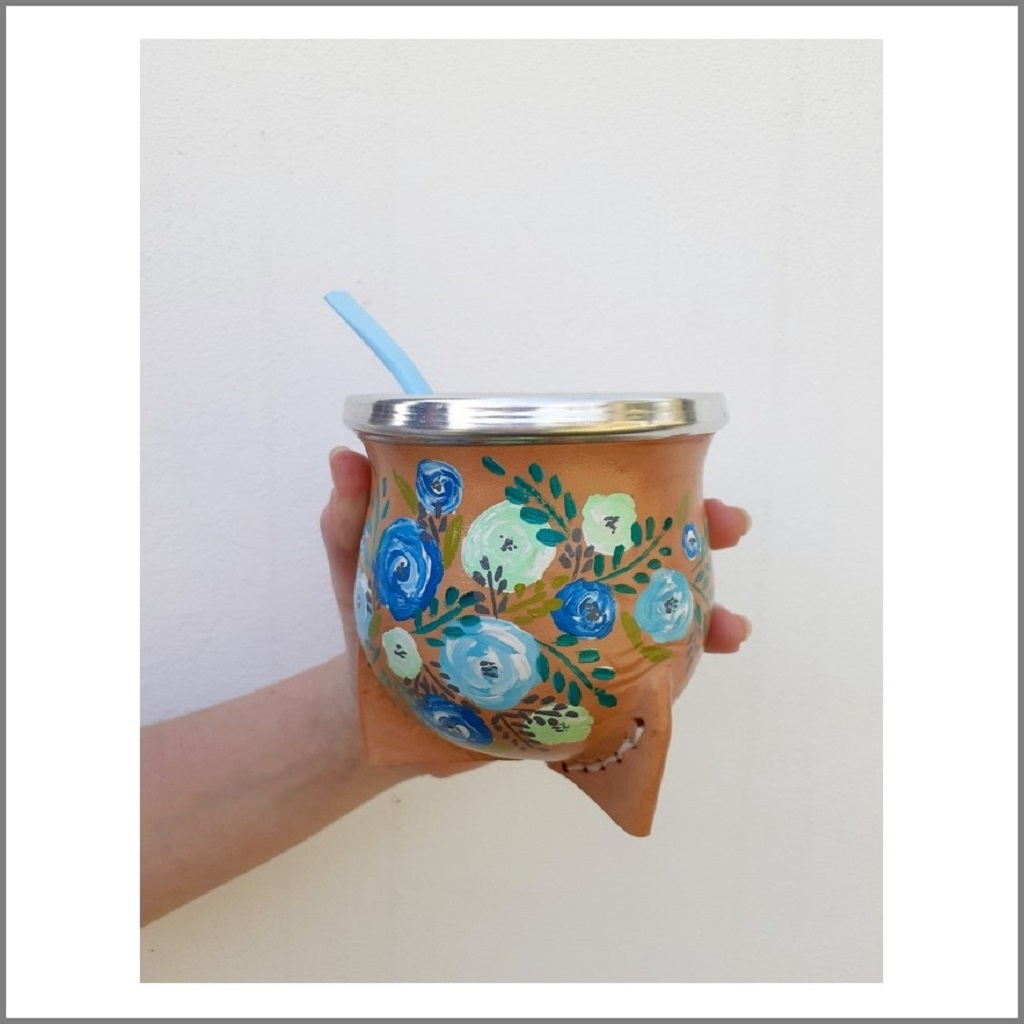madera: (321, 373, 752, 840)
mate: (323, 375, 754, 842)
